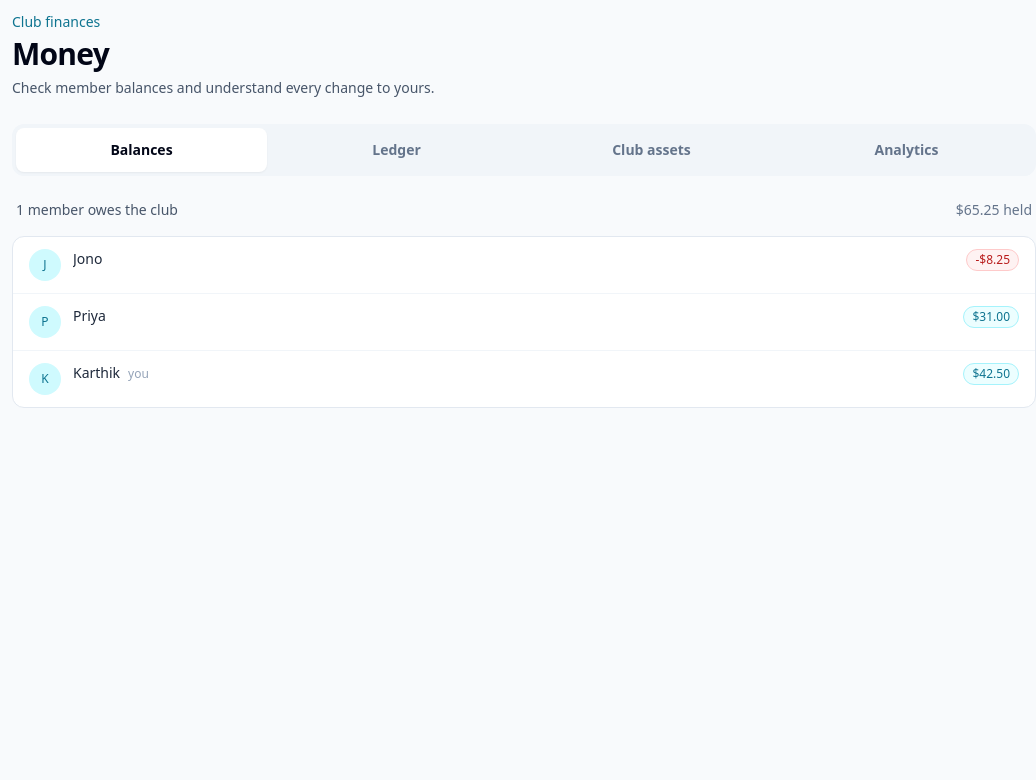
Money › offers Analytics as the fourth tab and shows personal spend
Click the tab "Analytics": (906, 150) [781, 128, 1032, 172]
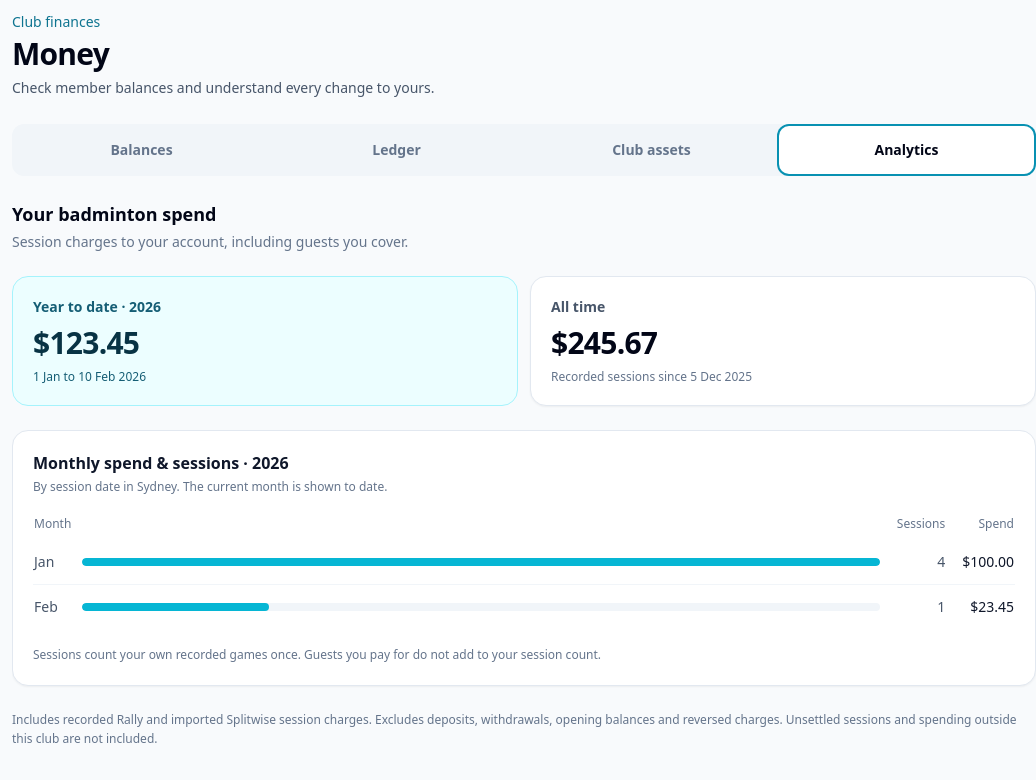
Expected: the text "$123.45" is shown, [33, 322, 139, 363]
Expected: the text "$245.67" is shown, [551, 322, 657, 363]
Expected: the heading "Monthly spend & sessions · 2026" is shown, [33, 452, 289, 474]
